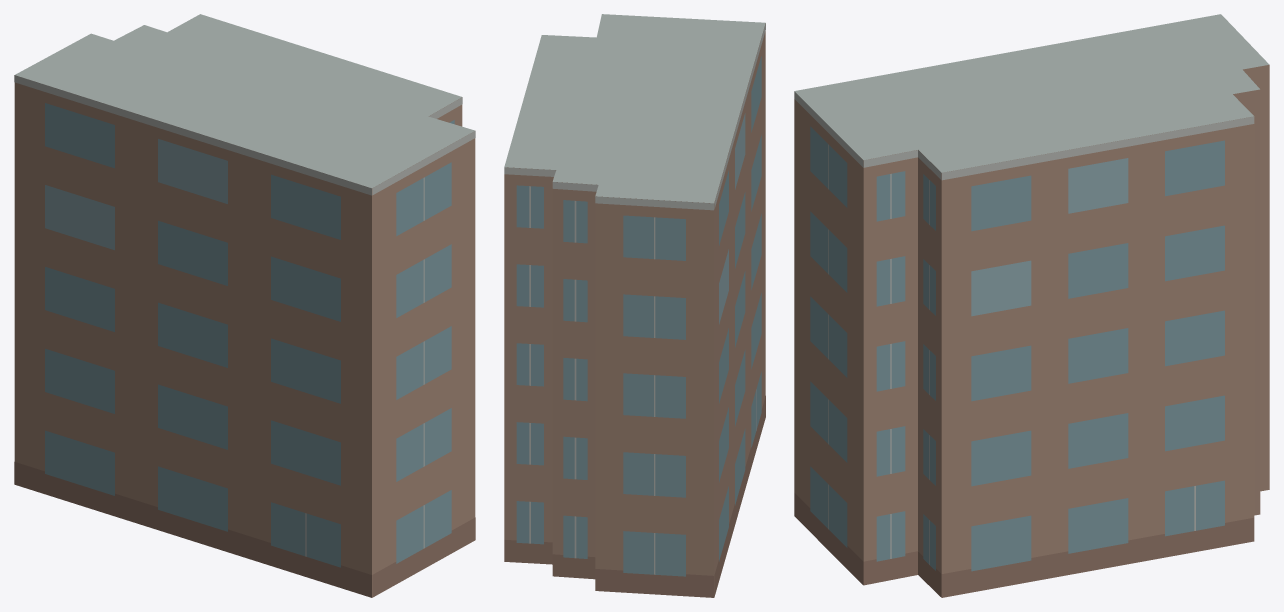
File: survey-upis-32740607.glb
The picture shows the model from 3 angles, left to right: view 1: azimuth 30°, elevation 25°; view 2: azimuth 150°, elevation 25°; view 3: azimuth 270°, elevation 25°; orthographic projection. The views are drawn at different scales.
Parts seen in each view (by area): view 1: survey-upis-32740607.tmp; view 2: survey-upis-32740607.tmp; view 3: survey-upis-32740607.tmp.
Boxes of the visible parts, x1,y1,x2,y2 form: survey-upis-32740607.tmp: (14,14,475,597); survey-upis-32740607.tmp: (504,14,765,597); survey-upis-32740607.tmp: (794,14,1269,597).
Size of the model in its own units: 10.99 by 13.7 by 13.89.
